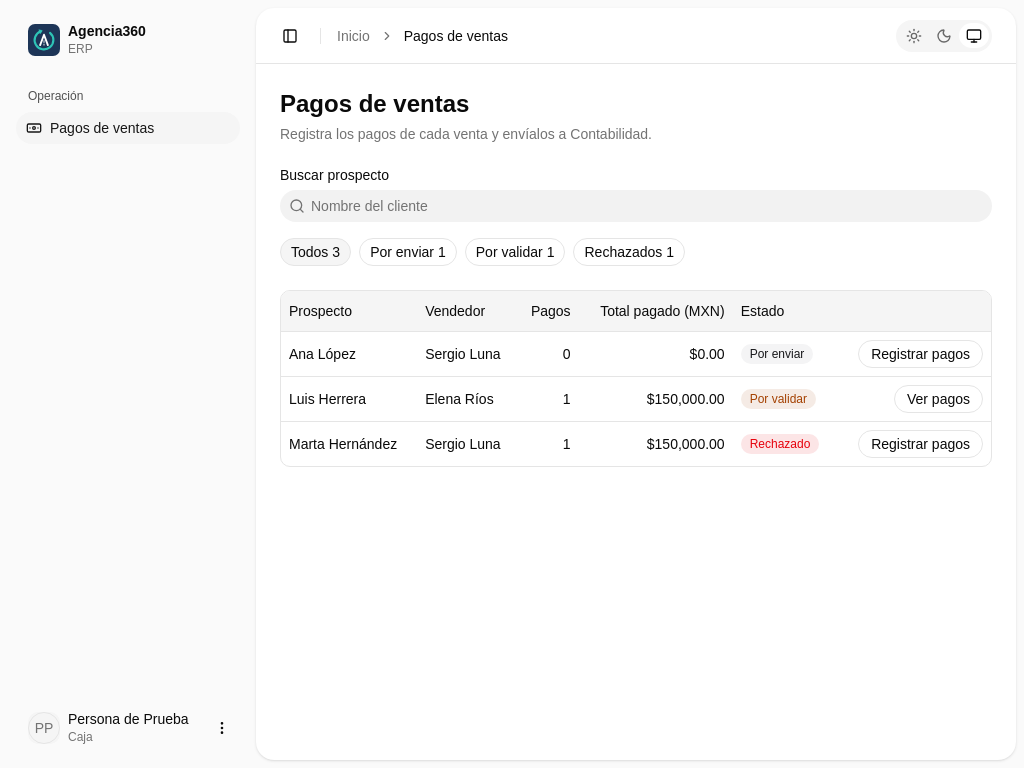
it: Pagos de ventas · Caja › no manda un monto vacío ni una fecha futura
The width and height of the screenshot is (1024, 768).
Click the button named "Registrar pagos de Ana López" at coordinates (921, 354), box [858, 340, 983, 368]
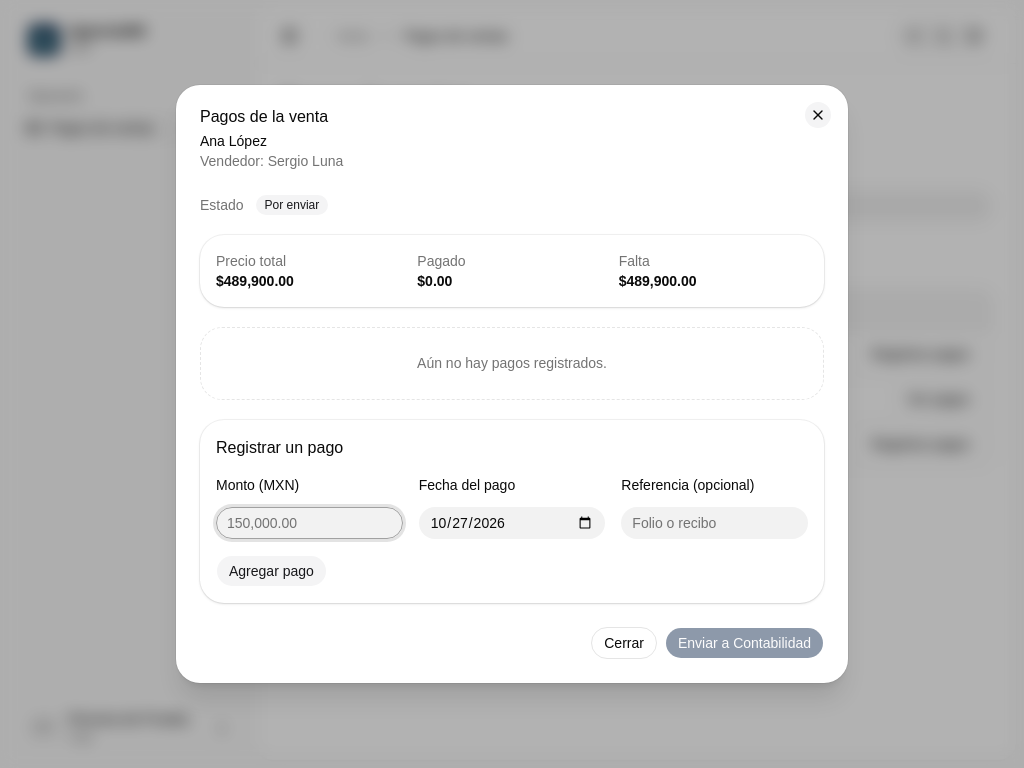
Click the button "Agregar pago" at coordinates (271, 571), box [216, 555, 327, 587]
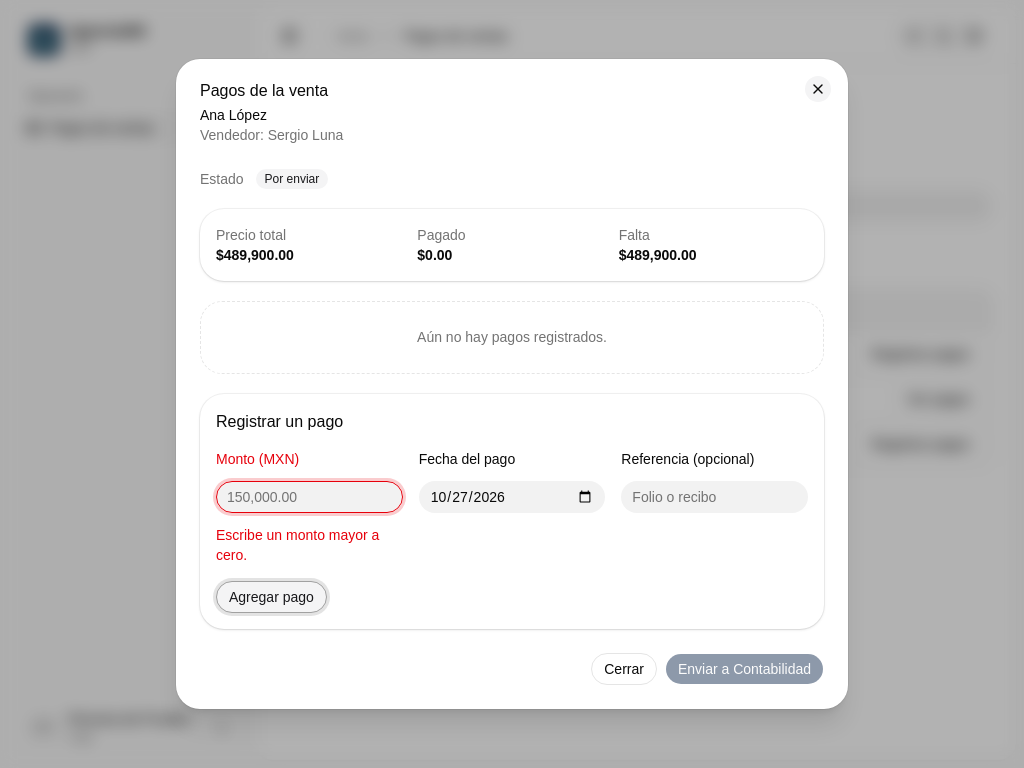
Expected: the text "Escribe un monto mayor a cero." is shown, [216, 525, 403, 565]
